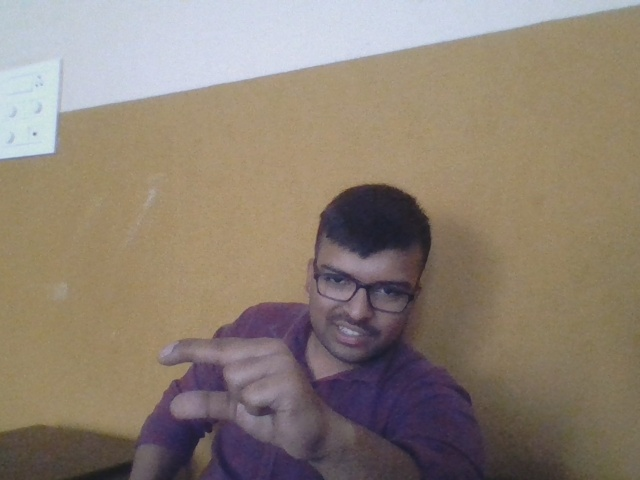No: (138, 299, 333, 464)
